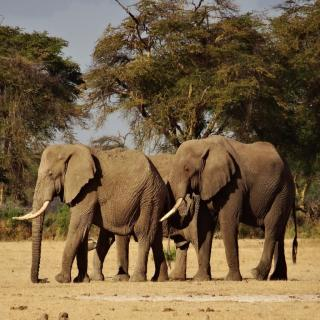Elephant: (11, 142, 171, 286), (158, 133, 303, 284)
